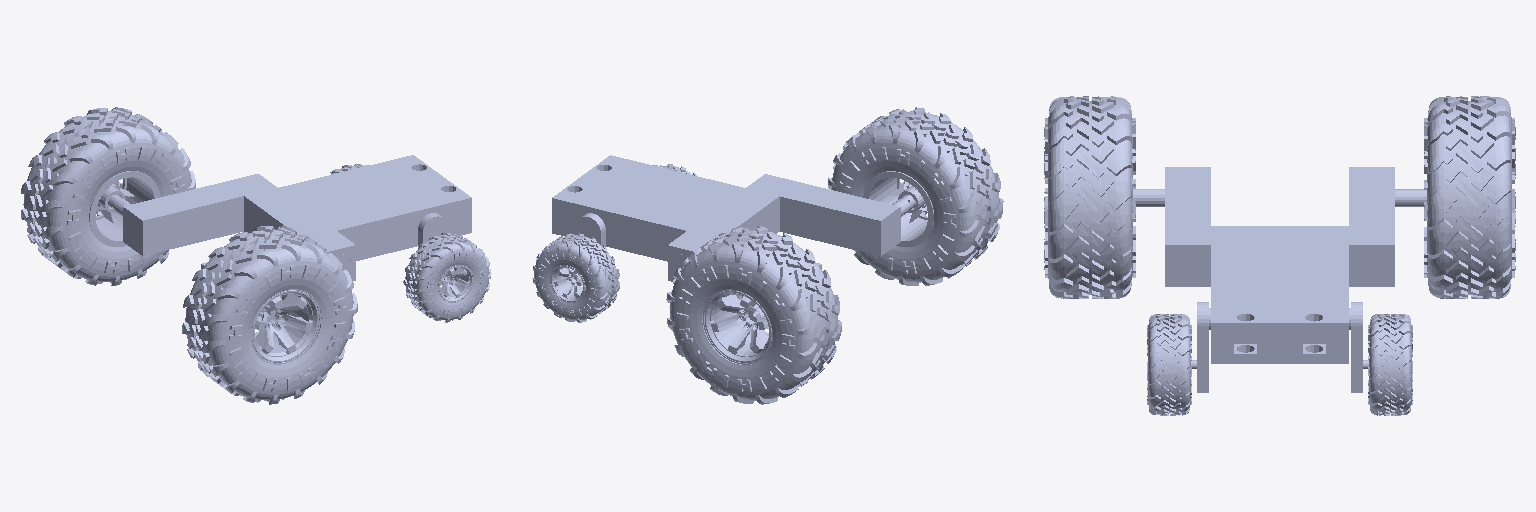
The robot description file, URDF, robot "optimus_rear_down":
<?xml version="1.0" encoding="utf-8"?>
<!-- This URDF was automatically created by SolidWorks to URDF Exporter! Originally created by [author] ([email redacted]) 
     Commit Version: 1.6.0-1-g15f4949  Build Version: 1.6.7594.29634
     For more information, please see http://wiki.ros.org/sw_urdf_exporter -->
<robot
  name="optimus_rear_down">
  
  <link
    name="optimus_rear_down">
    <inertial>
      <origin
        xyz="-0.0327449438113643 -8.17379237077329E-06 0.3"
        rpy="0 0 0" />
      <mass
        value="122.376866884981" />
      <inertia
        ixx="4.87633176370836"
        ixy="0.000482881609340847"
        ixz="-5.70419396334562E-16"
        iyy="14.6800587529815"
        iyz="1.96503014421023E-16"
        izz="10.6029682652451" />
    </inertial>
    <visual>
      <origin
        xyz="0 0 0"
        rpy="0 0 0" />
      <geometry>
        <mesh
          filename="package://optimus_rear_down/meshes/optimus_rear_down.STL" />
      </geometry>
      <material
        name="">
        <color
          rgba="0.792156862745098 0.819607843137255 0.933333333333333 1" />
      </material>
    </visual>
    <collision>
      <origin
        xyz="0 0 0"
        rpy="0 0 0" />
      <geometry>
        <mesh
          filename="package://optimus_rear_down/meshes/optimus_rear_down.STL" />
      </geometry>
    </collision>
  </link>
  
  <link
    name="RR_outer_wheel_connector_link">
    <inertial>
      <origin
        xyz="-0.322282451468766 -0.1 -5.78940774721395E-17"
        rpy="0 0 0" />
      <mass
        value="27.9159295503333" />
      <inertia
        ixx="0.195546159327483"
        ixy="-2.09846168286331E-17"
        ixz="-7.16344137027826E-17"
        iyy="1.42355930878677"
        iyz="-2.044660737018E-17"
        izz="1.4141193464615" />
    </inertial>
    <visual>
      <origin
        xyz="0 0 0"
        rpy="0 0 0" />
      <geometry>
        <mesh
          filename="package://optimus_rear_down/meshes/RR_outer_wheel_connector_link.STL" />
      </geometry>
      <material
        name="">
        <color
          rgba="0.792156862745098 0.819607843137255 0.933333333333333 1" />
      </material>
    </visual>
    <collision>
      <origin
        xyz="0 0 0"
        rpy="0 0 0" />
      <geometry>
        <mesh
          filename="package://optimus_rear_down/meshes/RR_outer_wheel_connector_link.STL" />
      </geometry>
    </collision>
  </link>
  
  <joint
    name="RR_outer_wheel_connector_joint"
    type="revolute">
    <origin
      xyz="-0.4 -0.3 0"
      rpy="0 0 0" />
    <parent
      link="optimus_rear_down" />
    <child
      link="RR_outer_wheel_connector_link" />
    <axis
      xyz="0 -1 0" />
    <limit
      lower="0"
      upper="1.57"
      effort="100"
      velocity="100" />
      <dynamics
      friction="1.0"
      damping="1.0" />
  </joint>

  <transmission name="RR_outer_wheel_connector_trans">
    <type>transmission_interface/SimpleTransmission</type>
    <joint name="RR_outer_wheel_connector_joint">
      <hardwareInterface>hardware_interface/PositionJointInterface</hardwareInterface>
    </joint>
    <actuator name="RR_outer_wheel_connector_actuator">
      <mechanicalReduction>1</mechanicalReduction>
      <hardwareInterface>hardware_interface/PositionJointInterface</hardwareInterface>
    </actuator>
  </transmission>
  
  <link
    name="RR_outer_wheel_link">
    <inertial>
      <origin
        xyz="2.30908879206293E-06 -0.512347882208065 -2.24099179537582E-06"
        rpy="0 0 0" />
      <mass
        value="41.7619829259419" />
      <inertia
        ixx="2.98739940114351"
        ixy="5.47476840660268E-06"
        ixz="-9.49198889283838E-06"
        iyy="4.63242150319647"
        iyz="-5.32161813234862E-06"
        izz="2.98739887035503" />
    </inertial>
    <visual>
      <origin
        xyz="0 0 0"
        rpy="0 0 0" />
      <geometry>
        <mesh
          filename="package://optimus_rear_down/meshes/RR_outer_wheel_link.STL" />
      </geometry>
      <material
        name="">
        <color
          rgba="0.792156862745098 0.819607843137255 0.933333333333333 1" />
      </material>
    </visual>
    <collision>
      <origin
        xyz="0 0 0"
        rpy="0 0 0" />
      <geometry>
        <mesh
          filename="package://optimus_rear_down/meshes/RR_outer_wheel_link.STL" />
      </geometry>
    </collision>
  </link>
  
  <joint
    name="RR_outer_wheel_joint"
    type="continuous">
    <origin
      xyz="-0.6 0 0"
      rpy="0 0 0" />
    <parent
      link="RR_outer_wheel_connector_link" />
    <child
      link="RR_outer_wheel_link" />
    <axis
      xyz="0 1 0" />
  </joint>

  <transmission name="RR_outer_wheel_trans">
    <type>transmission_interface/SimpleTransmission</type>
    
    <joint name="RR_outer_wheel_joint">
      <hardwareInterface>hardware_interface/VelocityJointInterface</hardwareInterface>
    </joint>
    <actuator name="RR_outer_wheel_actuator">
      <mechanicalReduction>10</mechanicalReduction>
      <hardwareInterface>hardware_interface/VelocityJointInterface</hardwareInterface>
    </actuator>
  </transmission>

  <link
    name="RL_outer_wheel_connector_link">
    <inertial>
      <origin
        xyz="-0.322282451468766 0.1 1.22232717603504E-16"
        rpy="0 0 0" />
      <mass
        value="27.9159295503333" />
      <inertia
        ixx="0.195546159327483"
        ixy="-4.79744556166558E-17"
        ixz="1.22213373370811E-17"
        iyy="1.42355930878677"
        iyz="-2.044660737018E-17"
        izz="1.4141193464615" />
    </inertial>
    <visual>
      <origin
        xyz="0 0 0"
        rpy="0 0 0" />
      <geometry>
        <mesh
          filename="package://optimus_rear_down/meshes/RL_outer_wheel_connector_link.STL" />
      </geometry>
      <material
        name="">
        <color
          rgba="0.792156862745098 0.819607843137255 0.933333333333333 1" />
      </material>
    </visual>
    <collision>
      <origin
        xyz="0 0 0"
        rpy="0 0 0" />
      <geometry>
        <mesh
          filename="package://optimus_rear_down/meshes/RL_outer_wheel_connector_link.STL" />
      </geometry>
    </collision>
  </link>
  
  <joint
    name="RL_outer_wheel_connector_joint"
    type="revolute">
    <origin
      xyz="-0.4 0.3 0"
      rpy="0 0 0" />
    <parent
      link="optimus_rear_down" />
    <child
      link="RL_outer_wheel_connector_link" />
    <axis
      xyz="0 -1 0" />
    <limit
      lower="0"
      upper="1.57"
      effort="100"
      velocity="100" />
      <dynamics
      friction="1.0"
      damping="1.0" />
  </joint>

  <transmission name="RL_outer_wheel_connector_trans">
    <type>transmission_interface/SimpleTransmission</type>
    <joint name="RL_outer_wheel_connector_joint">
      <hardwareInterface>hardware_interface/PositionJointInterface</hardwareInterface>
    </joint>
    <actuator name="RL_outer_wheel_connector_actuator">
      <mechanicalReduction>1</mechanicalReduction>
      <hardwareInterface>hardware_interface/PositionJointInterface</hardwareInterface>
    </actuator>
  </transmission>
  
  <link
    name="RL_outer_wheel_link">
    <inertial>
      <origin
        xyz="-3.11176429157456E-06 0.512347883757849 -8.19057979347473E-07"
        rpy="0 0 0" />
      <mass
        value="41.7619841663443" />
      <inertia
        ixx="2.98740739168957"
        ixy="7.38196124548242E-06"
        ixz="4.69124093974201E-06"
        iyy="4.63242150319647"
        iyz="1.94919389492616E-06"
        izz="2.98739087980896" />
    </inertial>
    <visual>
      <origin
        xyz="0 0 0"
        rpy="0 0 0" />
      <geometry>
        <mesh
          filename="package://optimus_rear_down/meshes/RL_outer_wheel_link.STL" />
      </geometry>
      <material
        name="">
        <color
          rgba="0.792156862745098 0.819607843137255 0.933333333333333 1" />
      </material>
    </visual>
    <collision>
      <origin
        xyz="0 0 0"
        rpy="0 0 0" />
      <geometry>
        <mesh
          filename="package://optimus_rear_down/meshes/RL_outer_wheel_link.STL" />
      </geometry>
    </collision>
  </link>
  
  <joint
    name="RL_outer_wheel_joint"
    type="continuous">
    <origin
      xyz="-0.6 0 0"
      rpy="0 0 0" />
    <parent
      link="RL_outer_wheel_connector_link" />
    <child
      link="RL_outer_wheel_link" />
    <axis
      xyz="0 1 0" />
  </joint>

  <transmission name="RL_outer_wheel_trans">
    <type>transmission_interface/SimpleTransmission</type>
    
    <joint name="RL_outer_wheel_joint">
      <hardwareInterface>hardware_interface/VelocityJointInterface</hardwareInterface>
    </joint>
    <actuator name="RL_outer_wheel_actuator">
      <mechanicalReduction>10</mechanicalReduction>
      <hardwareInterface>hardware_interface/VelocityJointInterface</hardwareInterface>
    </actuator>
  </transmission>
  
  <link
    name="RR_inner_wheel_connector_link">
    <inertial>
      <origin
        xyz="0 -0.0341754333918177 -0.124624737169442"
        rpy="0 0 0" />
      <mass
        value="2.85749443017902" />
      <inertia
        ixx="0.03581067609395"
        ixy="1.38060964134369E-19"
        ixz="1.93066817167967E-18"
        iyy="0.0403263961411894"
        iyz="-0.000293640119060309"
        izz="0.00581241279075832" />
    </inertial>
    <visual>
      <origin
        xyz="0 0 0"
        rpy="0 0 0" />
      <geometry>
        <mesh
          filename="package://optimus_rear_down/meshes/RR_inner_wheel_connector_link.STL" />
      </geometry>
      <material
        name="">
        <color
          rgba="0.792156862745098 0.819607843137255 0.933333333333333 1" />
      </material>
    </visual>
    <collision>
      <origin
        xyz="0 0 0"
        rpy="0 0 0" />
      <geometry>
        <mesh
          filename="package://optimus_rear_down/meshes/RR_inner_wheel_connector_link.STL" />
      </geometry>
    </collision>
  </link>
  
  <joint
    name="RR_inner_wheel_connector_joint"
    type="revolute">
    <origin
      xyz="0.25 -0.3 0"
      rpy="0 0 0" />
    <parent
      link="optimus_rear_down" />
    <child
      link="RR_inner_wheel_connector_link" />
    <axis
      xyz="0 1 0" />
    <limit
      lower="0"
      upper="1.57"
      effort="100"
      velocity="100" />
      <dynamics
      friction="1.0"
      damping="1.0" />
  </joint>

  <transmission name="RR_inner_wheel_connector_trans">
    <type>transmission_interface/SimpleTransmission</type>
    <joint name="RR_inner_wheel_connector_joint">
      <hardwareInterface>hardware_interface/PositionJointInterface</hardwareInterface>
    </joint>
    <actuator name="RR_inner_wheel_connector_actuator">
      <mechanicalReduction>1</mechanicalReduction>
      <hardwareInterface>hardware_interface/PositionJointInterface</hardwareInterface>
    </actuator>
  </transmission>
  
  <link
    name="RR_inner_wheel_link">
    <inertial>
      <origin
        xyz="-3.26488667362623E-06 -0.122556779088178 -7.5700974569437E-07"
        rpy="0 0 0" />
      <mass
        value="5.0050489240219" />
      <inertia
        ixx="0.0924069336866162"
        ixy="-2.3247422630764E-07"
        ixz="1.30083208154799E-07"
        iyy="0.144720367920831"
        iyz="-5.36860750277629E-08"
        izz="0.0924064002719234" />
    </inertial>
    <visual>
      <origin
        xyz="0 0 0"
        rpy="0 0 0" />
      <geometry>
        <mesh
          filename="package://optimus_rear_down/meshes/RR_inner_wheel_link.STL" />
      </geometry>
      <material
        name="">
        <color
          rgba="0.792156862745098 0.819607843137255 0.933333333333333 1" />
      </material>
    </visual>
    <collision>
      <origin
        xyz="0 0 0"
        rpy="0 0 0" />
      <geometry>
        <mesh
          filename="package://optimus_rear_down/meshes/RR_inner_wheel_link.STL" />
      </geometry>
    </collision>
  </link>
  
  <joint
    name="RR_inner_wheel_joint"
    type="continuous">
    <origin
      xyz="0 -0.06 -0.22"
      rpy="0 0 0" />
    <parent
      link="RR_inner_wheel_connector_link" />
    <child
      link="RR_inner_wheel_link" />
    <axis
      xyz="0 1 0" />
  </joint>

  <transmission name="RR_inner_wheel_trans">
    <type>transmission_interface/SimpleTransmission</type>
    <joint name="RR_inner_wheel_joint">
      <hardwareInterface>hardware_interface/VelocityJointInterface</hardwareInterface>
    </joint>
    <actuator name="RR_inner_wheel_actuator">
      <mechanicalReduction>10</mechanicalReduction>
      <hardwareInterface>hardware_interface/VelocityJointInterface</hardwareInterface>
    </actuator>
  </transmission>
  
  <link
    name="RL_inner_wheel_connector_link">
    <inertial>
      <origin
        xyz="0 0.0341754333918177 -0.124624737169442"
        rpy="0 0 0" />
      <mass
        value="2.85749443017902" />
      <inertia
        ixx="0.03581067609395"
        ixy="3.24261450153141E-19"
        ixz="-2.25550441644713E-18"
        iyy="0.0403263961411894"
        iyz="0.00029364011906031"
        izz="0.0058124127907583" />
    </inertial>
    <visual>
      <origin
        xyz="0 0 0"
        rpy="0 0 0" />
      <geometry>
        <mesh
          filename="package://optimus_rear_down/meshes/RL_inner_wheel_connector_link.STL" />
      </geometry>
      <material
        name="">
        <color
          rgba="0.792156862745098 0.819607843137255 0.933333333333333 1" />
      </material>
    </visual>
    <collision>
      <origin
        xyz="0 0 0"
        rpy="0 0 0" />
      <geometry>
        <mesh
          filename="package://optimus_rear_down/meshes/RL_inner_wheel_connector_link.STL" />
      </geometry>
    </collision>
  </link>
  
  <joint
    name="RL_inner_wheel_connector_joint"
    type="revolute">
    <origin
      xyz="0.25 0.3 0"
      rpy="0 0 0" />
    <parent
      link="optimus_rear_down" />
    <child
      link="RL_inner_wheel_connector_link" />
    <axis
      xyz="0 1 0" />
    <limit
      lower="0"
      upper="1.57"
      effort="100"
      velocity="100" />
      <dynamics
      friction="1.0"
      damping="1.0" />
  </joint>

  <transmission name="RL_inner_wheel_connector_trans">
    <type>transmission_interface/SimpleTransmission</type>
    <joint name="RL_inner_wheel_connector_joint">
      <hardwareInterface>hardware_interface/PositionJointInterface</hardwareInterface>
    </joint>
    <actuator name="RL_inner_wheel_connector_actuator">
      <mechanicalReduction>1</mechanicalReduction>
      <hardwareInterface>hardware_interface/PositionJointInterface</hardwareInterface>
    </actuator>
  </transmission>
  
  <link
    name="RL_inner_wheel_link">
    <inertial>
      <origin
        xyz="2.42420802271104E-06 0.122556778342622 -2.31425236146832E-06"
        rpy="0 0 0" />
      <mass
        value="5.00504876897153" />
      <inertia
        ixx="0.0924066812914037"
        ixy="-1.7272442283364E-07"
        ixz="-2.96390424904804E-07"
        iyy="0.144720367774984"
        iyz="1.64598745570869E-07"
        izz="0.0924066524688732" />
    </inertial>
    <visual>
      <origin
        xyz="0 0 0"
        rpy="0 0 0" />
      <geometry>
        <mesh
          filename="package://optimus_rear_down/meshes/RL_inner_wheel_link.STL" />
      </geometry>
      <material
        name="">
        <color
          rgba="0.792156862745098 0.819607843137255 0.933333333333333 1" />
      </material>
    </visual>
    <collision>
      <origin
        xyz="0 0 0"
        rpy="0 0 0" />
      <geometry>
        <mesh
          filename="package://optimus_rear_down/meshes/RL_inner_wheel_link.STL" />
      </geometry>
    </collision>
  </link>
  
  <joint
    name="RL_inner_wheel_joint"
    type="continuous">
    <origin
      xyz="0 0.06 -0.22"
      rpy="0 0 0" />
    <parent
      link="RL_inner_wheel_connector_link" />
    <child
      link="RL_inner_wheel_link" />
    <axis
      xyz="0 1 0" />
  </joint>

  <transmission name="RL_inner_wheel_trans">
    <type>transmission_interface/SimpleTransmission</type>
    
    <joint name="RL_inner_wheel_joint">
      <hardwareInterface>hardware_interface/VelocityJointInterface</hardwareInterface>
    </joint>
    <actuator name="RL_inner_wheel_actuator">
      <mechanicalReduction>10</mechanicalReduction>
      <hardwareInterface>hardware_interface/VelocityJointInterface</hardwareInterface>
    </actuator>
  </transmission>

  <gazebo>
    <plugin filename="libgazebo_ros_control.so" name="gazebo_ros_control">
      <robotNamespace>/optimus_rear_namespace/</robotNamespace>
      <robotSimType>gazebo_ros_control/DefaultRobotHWSim</robotSimType>
      <legacyModeNS>true</legacyModeNS>
    </plugin>
  </gazebo>
</robot>

--- Facts derived from the render (not from the file) ---
The picture shows the robot from 3 angles, left to right: view 1: azimuth 30°, elevation 25°; view 2: azimuth 150°, elevation 25°; view 3: azimuth 270°, elevation 25°; orthographic projection.
Robot: optimus_rear_down — 9 links, 8 joints (4 revolute, 4 continuous); root link optimus_rear_down; default pose: all joints at 0.
Visible links, largest first — view 1: RR_outer_wheel_link, RL_outer_wheel_link, optimus_rear_down, RL_outer_wheel_connector_link, RR_inner_wheel_link, RR_outer_wheel_connector_link, RR_inner_wheel_connector_link; view 2: RL_outer_wheel_link, RR_outer_wheel_link, optimus_rear_down, RR_outer_wheel_connector_link, RL_inner_wheel_link, RL_outer_wheel_connector_link, RL_inner_wheel_connector_link; view 3: optimus_rear_down, RL_outer_wheel_link, RR_outer_wheel_link, RR_outer_wheel_connector_link, RL_outer_wheel_connector_link, RL_inner_wheel_link, RR_inner_wheel_link, RR_inner_wheel_connector_link, RL_inner_wheel_connector_link.
Boxes of the visible links, x1,y1,x2,y2 form: RR_outer_wheel_link: [182, 226, 357, 404]; RL_outer_wheel_link: [21, 107, 195, 285]; optimus_rear_down: [244, 155, 471, 271]; RL_outer_wheel_connector_link: [123, 174, 277, 255]; RR_inner_wheel_link: [403, 233, 491, 322]; RR_outer_wheel_connector_link: [201, 231, 355, 298]; RR_inner_wheel_connector_link: [418, 213, 447, 284]; RL_outer_wheel_link: [666, 226, 841, 404]; RR_outer_wheel_link: [828, 107, 1003, 285]; optimus_rear_down: [552, 155, 779, 271]; RR_outer_wheel_connector_link: [746, 174, 900, 255]; RL_inner_wheel_link: [532, 233, 619, 322]; RL_outer_wheel_connector_link: [668, 231, 821, 297]; RL_inner_wheel_connector_link: [576, 213, 605, 246]; optimus_rear_down: [1211, 226, 1348, 363]; RL_outer_wheel_link: [1395, 96, 1515, 298]; RR_outer_wheel_link: [1044, 96, 1164, 298]; RR_outer_wheel_connector_link: [1165, 167, 1210, 286]; RL_outer_wheel_connector_link: [1349, 167, 1394, 286]; RL_inner_wheel_link: [1363, 314, 1412, 415]; RR_inner_wheel_link: [1147, 314, 1196, 415]; RR_inner_wheel_connector_link: [1197, 302, 1210, 392]; RL_inner_wheel_connector_link: [1349, 302, 1362, 392].
Bounding box of the posed robot: 1.94 × 2.05 × 0.8842 m (x, y, z).
9 mesh visuals loaded from 9 distinct referenced files (9 binary STL).